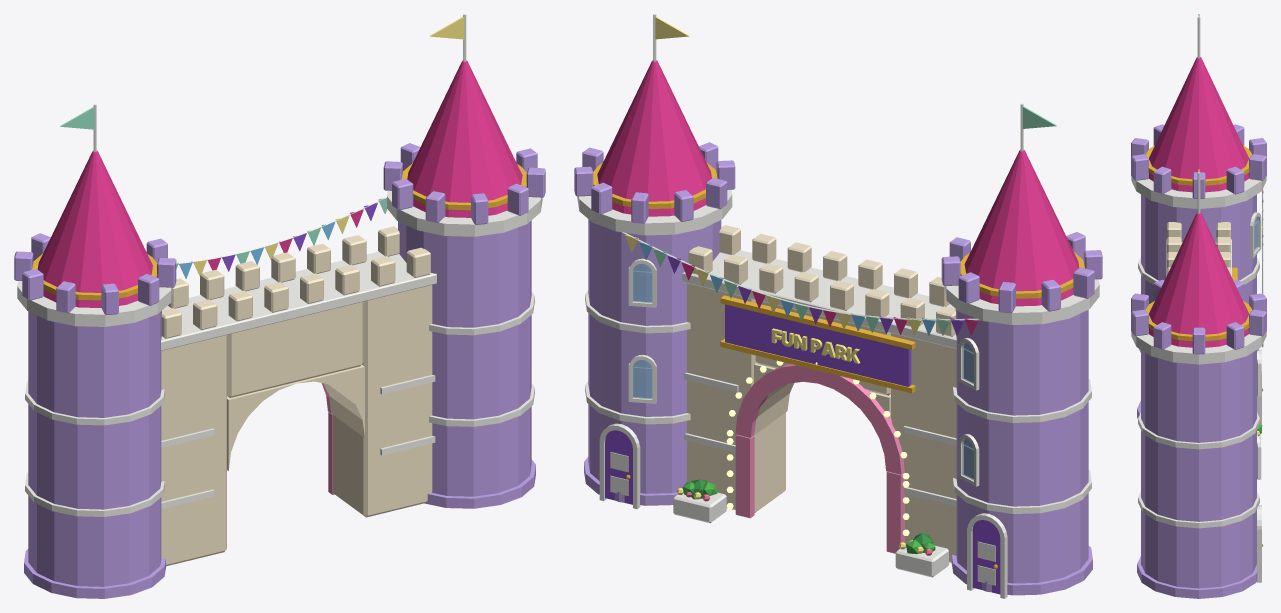
File: CastleGate.fbx
The picture shows the model from 3 angles, left to right: view 1: azimuth 30°, elevation 25°; view 2: azimuth 150°, elevation 25°; view 3: azimuth 270°, elevation 25°; orthographic projection. The views are drawn at different scales.
Parts seen in each view (by area): view 1: CastleGate_Lilac, CastleGate_Cream, CastleGate_HotPink, CastleGate_White, CastleGate_Gold, CastleGate_Lemon, CastleGate_Mint; view 2: CastleGate_Lilac, CastleGate_Cream, CastleGate_White, CastleGate_HotPink, CastleGate_Purple, CastleGate_Pink, CastleGate_Gold, CastleGate_Lemon, CastleGate_Glass, CastleGate_Mint, CastleGate_NeonYellow; view 3: CastleGate_Lilac, CastleGate_HotPink, CastleGate_White, CastleGate_Gold, CastleGate_Cream.
Boxes of the visible parts, x1=… form: CastleGate_Lilac: x1=14, y1=143, x2=545, y2=598; CastleGate_Cream: x1=161, y1=226, x2=432, y2=566; CastleGate_HotPink: x1=37, y1=60, x2=522, y2=307; CastleGate_White: x1=17, y1=14, x2=542, y2=516; CastleGate_Gold: x1=32, y1=163, x2=526, y2=300; CastleGate_Lemon: x1=193, y1=17, x2=464, y2=275; CastleGate_Mint: x1=60, y1=107, x2=387, y2=268; CastleGate_Lilac: x1=574, y1=142, x2=1102, y2=595; CastleGate_Cream: x1=687, y1=225, x2=956, y2=562; CastleGate_White: x1=577, y1=14, x2=1099, y2=598; CastleGate_HotPink: x1=597, y1=60, x2=1079, y2=335; CastleGate_Purple: x1=605, y1=256, x2=1000, y2=594; CastleGate_Pink: x1=735, y1=364, x2=904, y2=553; CastleGate_Gold: x1=593, y1=162, x2=1084, y2=393; CastleGate_Lemon: x1=625, y1=16, x2=923, y2=553; CastleGate_Glass: x1=633, y1=264, x2=973, y2=480; CastleGate_Mint: x1=653, y1=106, x2=1056, y2=335; CastleGate_NeonYellow: x1=726, y1=360, x2=909, y2=535; CastleGate_Lilac: x1=1131, y1=124, x2=1266, y2=598; CastleGate_HotPink: x1=1148, y1=57, x2=1263, y2=347; CastleGate_White: x1=1131, y1=16, x2=1266, y2=582; CastleGate_Gold: x1=1145, y1=145, x2=1252, y2=340; CastleGate_Cream: x1=1167, y1=222, x2=1230, y2=274.
Bounding box in the file's own units: 52.4 × 45.82 × 14.02.
